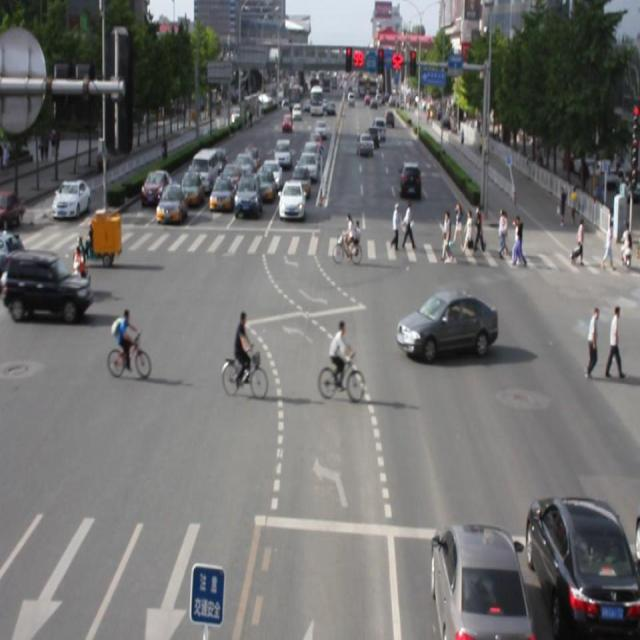car: (523, 495, 640, 640), (429, 524, 530, 640), (397, 288, 497, 357)
